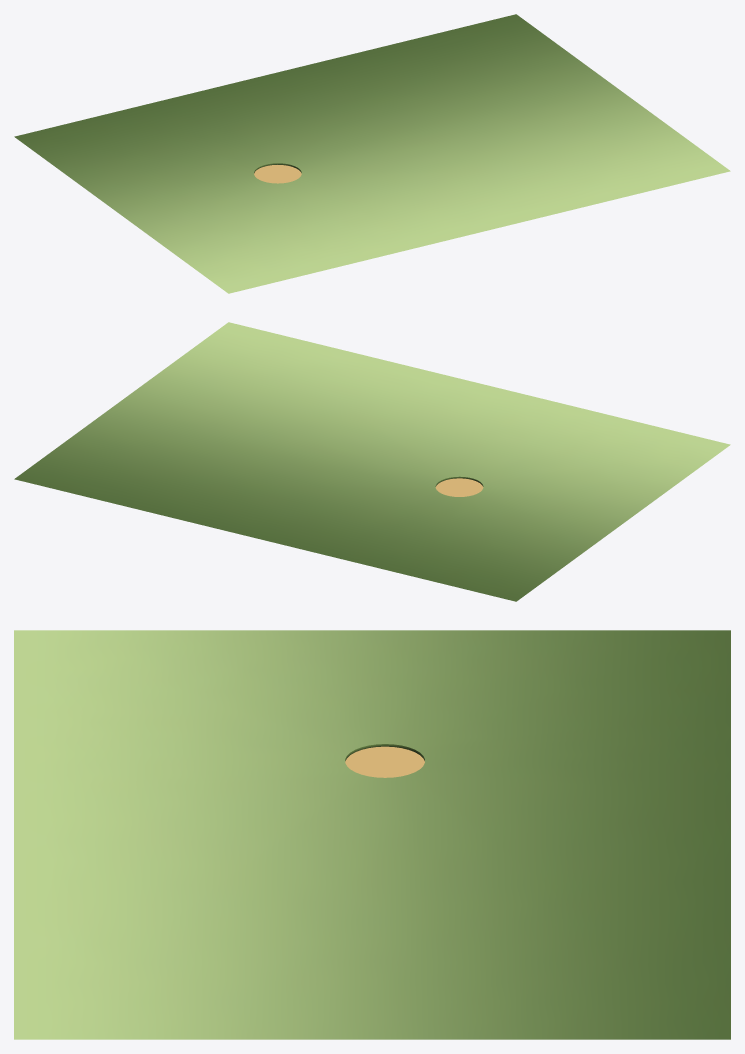
Rendered from Circle_Arena.fbx.
3 views of the same model, one above another, from view 1: azimuth 30°, elevation 25°; view 2: azimuth 150°, elevation 25°; view 3: azimuth 270°, elevation 25° (orthographic). The views are drawn at different scales.
Parts seen in each view (by area): view 1: Circle_Arena; view 2: Circle_Arena; view 3: Circle_Arena.
Boxes of the visible parts, bbox=[...] form: Circle_Arena: bbox=[14, 14, 730, 293]; Circle_Arena: bbox=[14, 322, 730, 601]; Circle_Arena: bbox=[14, 630, 730, 1039].
Size of the model in its own units: 10504 by 31.52 by 7772.
